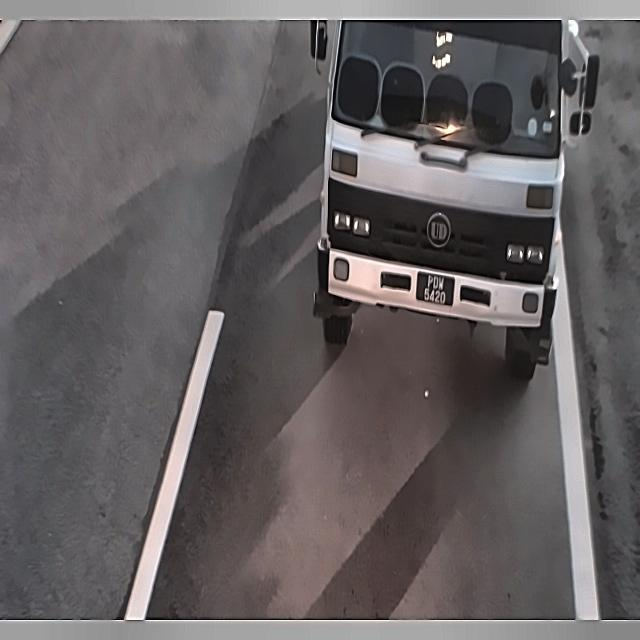car: (410, 262, 462, 311)
